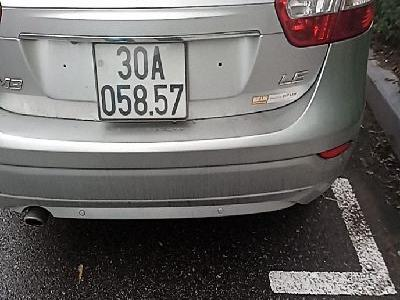lisence: (90, 37, 192, 124)
